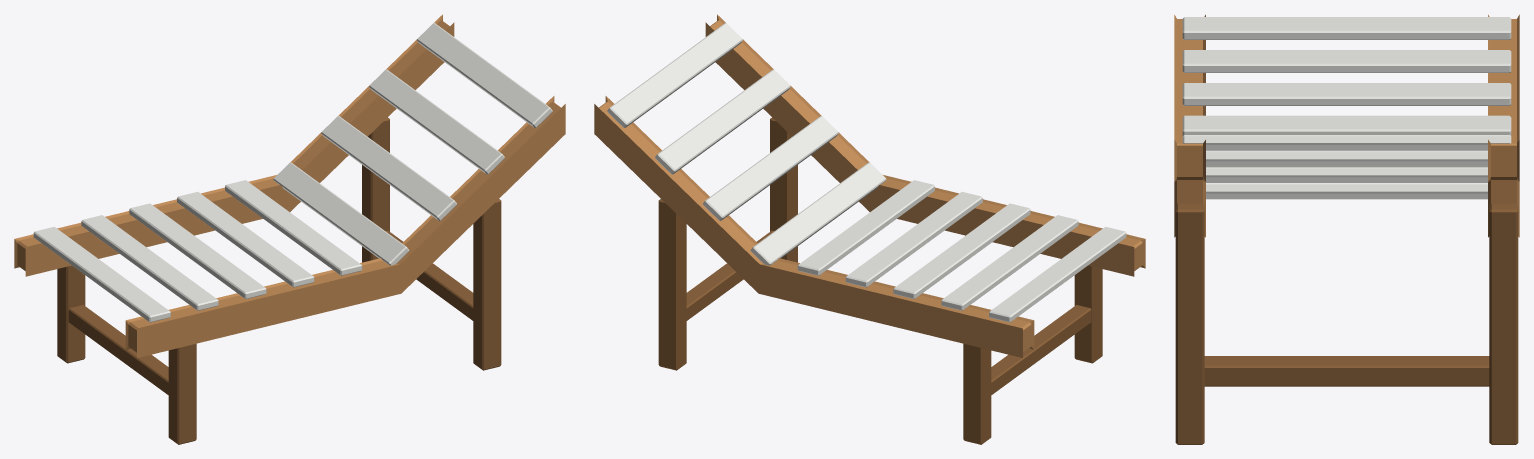
The model's file is reposera.glb.
3 views of the same model, side by side, from view 1: azimuth 30°, elevation 25°; view 2: azimuth 150°, elevation 25°; view 3: azimuth 270°, elevation 25° (orthographic). The views are drawn at different scales.
Visible parts, largest first — view 1: costado, costado.001, pata.002, tela.007, tela.006, tela.008, tela.005, tela.004, tela.003, tela.002, tela.001, tela (+5 smaller); view 2: costado.001, costado, pata.003, tela.007, tela.006, tela.008, tela.005, tela.004, tela.003, tela.002, tela.001, tela (+5 smaller); view 3: travesano.001, tela.001, tela.002, tela, pata.002, pata.003, tela.003, tela.008, tela.005, tela.006, tela.007, costado (+2 smaller).
Boxes of the visible parts, x1,y1,x2,y2 form: costado: [125, 96, 565, 357]; costado.001: [14, 14, 454, 276]; pata.002: [473, 199, 501, 370]; tela.007: [369, 69, 504, 174]; tela.006: [321, 116, 456, 220]; tela.008: [417, 23, 552, 127]; tela.005: [273, 162, 409, 265]; tela.004: [225, 180, 362, 275]; tela.003: [177, 191, 314, 287]; tela.002: [129, 203, 266, 299]; tela.001: [81, 215, 218, 310]; tela: [33, 226, 170, 322]; costado.001: [594, 96, 1034, 357]; costado: [705, 14, 1145, 276]; pata.003: [658, 199, 686, 370]; tela.007: [655, 69, 790, 174]; tela.006: [703, 116, 838, 220]; tela.008: [607, 23, 742, 127]; tela.005: [750, 162, 886, 265]; tela.004: [797, 180, 934, 275]; tela.003: [845, 191, 982, 287]; tela.002: [893, 203, 1030, 299]; tela.001: [941, 215, 1078, 310]; tela: [989, 226, 1126, 322]; travesano.001: [1204, 356, 1489, 386]; tela.001: [1182, 50, 1511, 72]; tela.002: [1182, 83, 1511, 105]; tela: [1182, 17, 1511, 39]; pata.002: [1175, 203, 1204, 444]; pata.003: [1489, 203, 1518, 444]; tela.003: [1182, 115, 1511, 135]; tela.008: [1182, 135, 1511, 150]; tela.005: [1206, 183, 1487, 199]; tela.006: [1206, 167, 1487, 182]; tela.007: [1206, 151, 1487, 166]; costado: [1174, 14, 1205, 237].
Size of the model in its own units: 1.21 by 0.6696 by 0.599.
